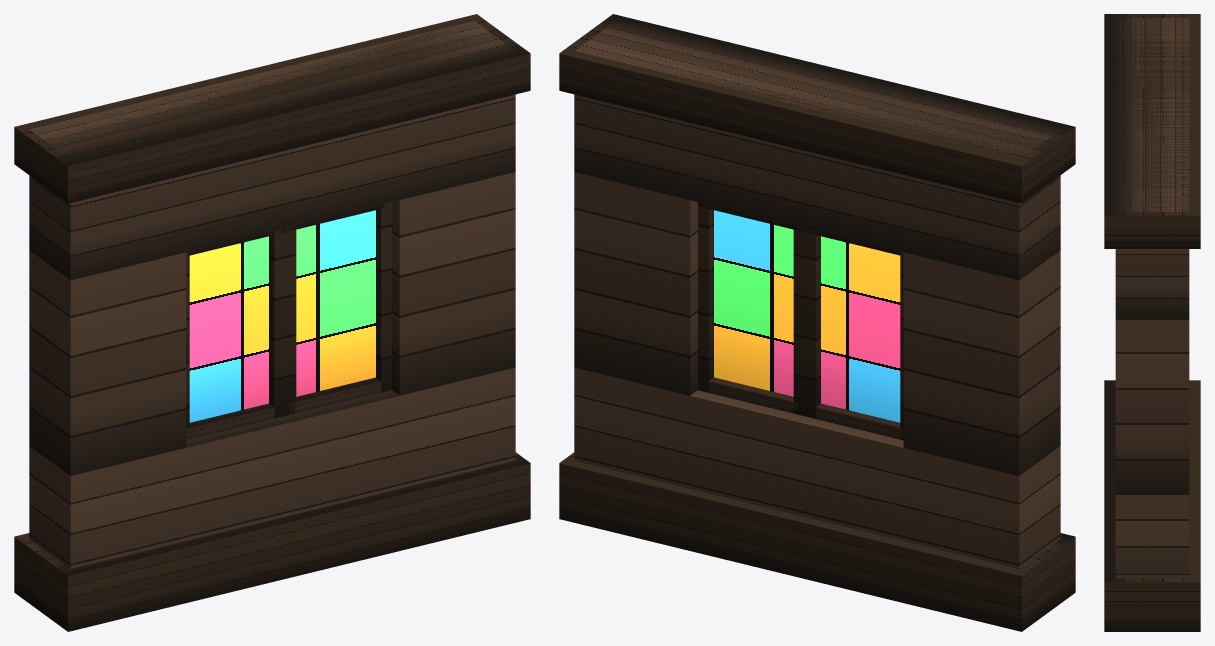
Rendered from wall_window_wood.gltf.
3 views of the same model, side by side, from view 1: azimuth 30°, elevation 25°; view 2: azimuth 150°, elevation 25°; view 3: azimuth 270°, elevation 25° (orthographic). The views are drawn at different scales.
Visible parts, largest first — view 1: wall_window_wood; view 2: wall_window_wood; view 3: wall_window_wood.
Boxes of the visible parts, left/top/right/bottom form: wall_window_wood: left=14, top=14, right=530, bottom=631; wall_window_wood: left=559, top=14, right=1075, bottom=631; wall_window_wood: left=1104, top=14, right=1200, bottom=631.
Size of the model in its own units: 1.04 by 1 by 0.21.
1 material, 1 textured.
